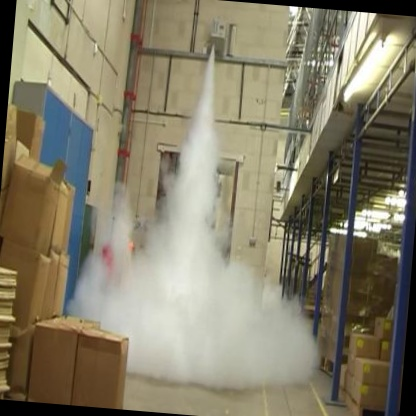smoke: (84, 33, 323, 390)
